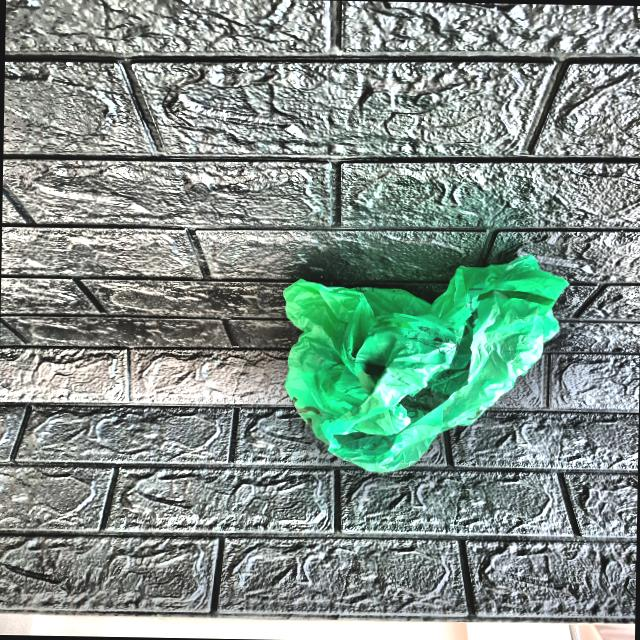plastic bag: (247, 236, 570, 484)
